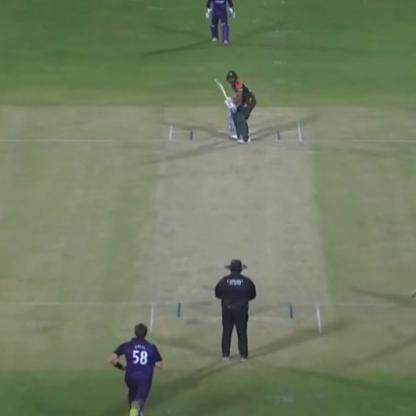bat: (210, 70, 232, 107)
pitch: (144, 121, 326, 345)
